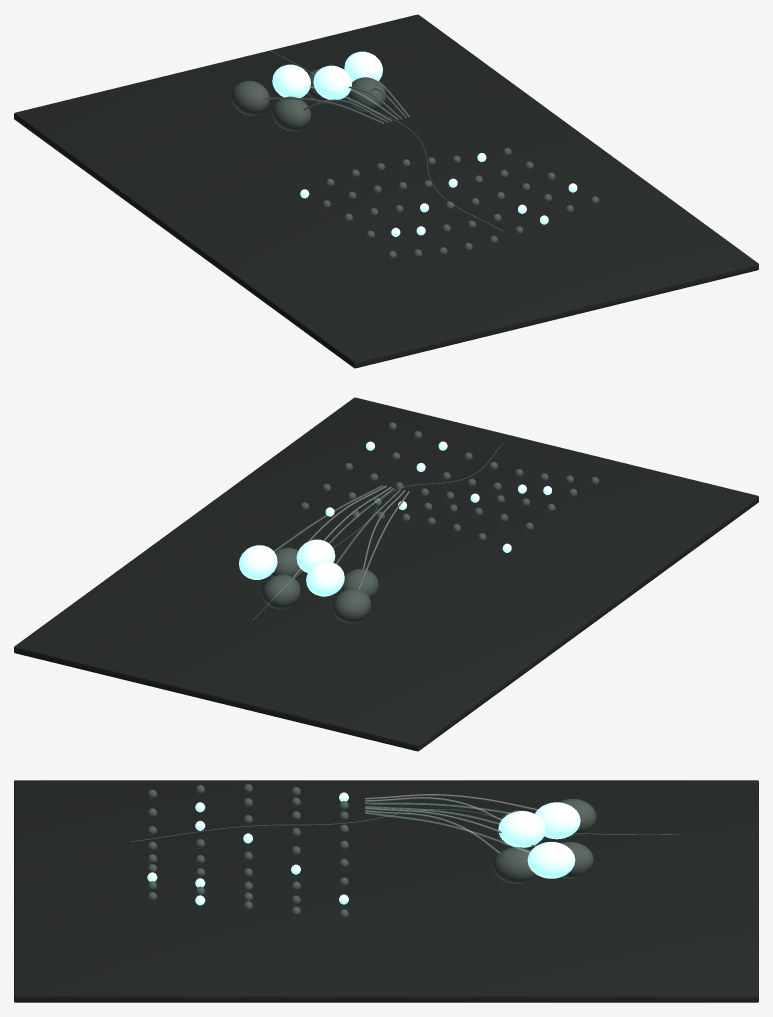
File: aerosense_05_decoder_v2.glb
3 renders of one model, top to bottom at view 1: azimuth 30°, elevation 25°; view 2: azimuth 150°, elevation 25°; view 3: azimuth 270°, elevation 25°, orthographic. The views are drawn at different scales.
Parts seen in each view (by area): view 1: DecoderFloor, AL_GLOMERULUS_0, AL_GLOMERULUS_5, AL_GLOMERULUS_4, AL_GLOMERULUS_1, AL_GLOMERULUS_6, AL_GLOMERULUS_3; view 2: DecoderFloor, AL_GLOMERULUS_0, AL_GLOMERULUS_1, AL_GLOMERULUS_2, AL_GLOMERULUS_3, AL_GLOMERULUS_5, AL_GLOMERULUS_4, AL_GLOMERULUS_6; view 3: DecoderFloor, AL_GLOMERULUS_3, AL_GLOMERULUS_5, AL_GLOMERULUS_1, AL_GLOMERULUS_6, AL_GLOMERULUS_2, AL_GLOMERULUS_0, PROJECTION_0.
Part boxes in pixels (bbox=[...]): DecoderFloor: bbox=[14, 14, 758, 368]; AL_GLOMERULUS_0: bbox=[231, 80, 269, 115]; AL_GLOMERULUS_5: bbox=[313, 65, 351, 99]; AL_GLOMERULUS_4: bbox=[272, 96, 311, 131]; AL_GLOMERULUS_1: bbox=[272, 64, 310, 97]; AL_GLOMERULUS_6: bbox=[347, 77, 385, 112]; AL_GLOMERULUS_3: bbox=[344, 51, 382, 82]; DecoderFloor: bbox=[14, 397, 758, 751]; AL_GLOMERULUS_0: bbox=[332, 588, 371, 623]; AL_GLOMERULUS_1: bbox=[306, 561, 344, 596]; AL_GLOMERULUS_2: bbox=[262, 574, 300, 609]; AL_GLOMERULUS_3: bbox=[239, 545, 277, 579]; AL_GLOMERULUS_5: bbox=[296, 539, 335, 572]; AL_GLOMERULUS_4: bbox=[340, 568, 378, 599]; AL_GLOMERULUS_6: bbox=[270, 547, 303, 579]; DecoderFloor: bbox=[14, 780, 758, 1002]; AL_GLOMERULUS_3: bbox=[527, 841, 575, 878]; AL_GLOMERULUS_5: bbox=[498, 811, 545, 847]; AL_GLOMERULUS_1: bbox=[535, 802, 580, 839]; AL_GLOMERULUS_6: bbox=[493, 847, 536, 883]; AL_GLOMERULUS_2: bbox=[561, 842, 593, 878]; AL_GLOMERULUS_0: bbox=[559, 798, 596, 835]; PROJECTION_0: bbox=[365, 794, 537, 810].
Bounding box in the file's own units: 9.6 × 1.88 × 14.
